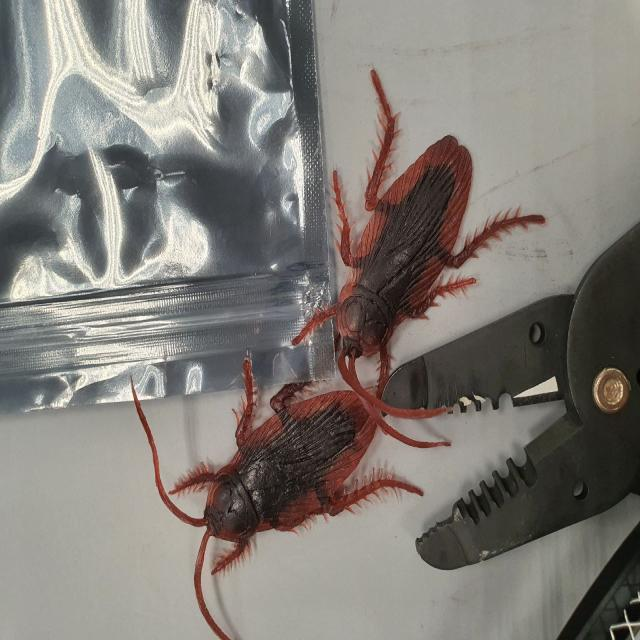Cockroach: (101, 350, 428, 640), (288, 65, 554, 394)
